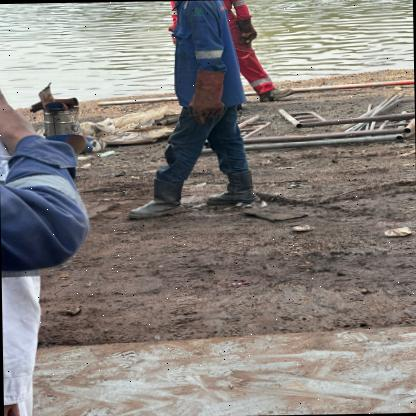bota: (127, 179, 186, 219), (203, 170, 258, 205)
